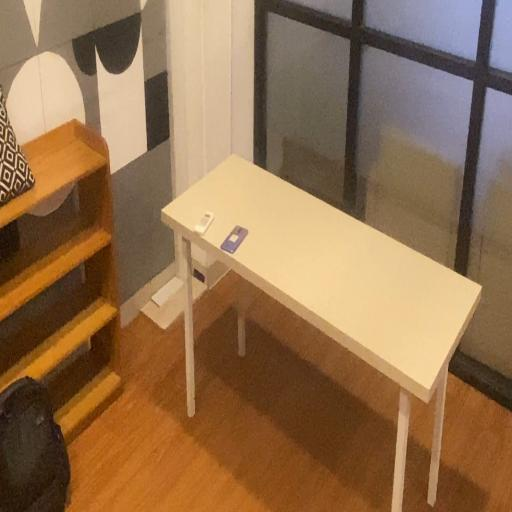bantal: (0, 76, 37, 216)
hp: (220, 221, 251, 258)
lemari: (0, 110, 126, 468)
meja: (158, 147, 486, 512)
remote AC: (191, 204, 214, 243)
tas ransel: (0, 371, 75, 512)
